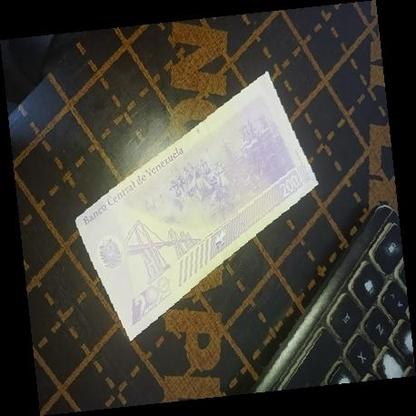two_hundred-back-vef: (74, 70, 319, 342)
